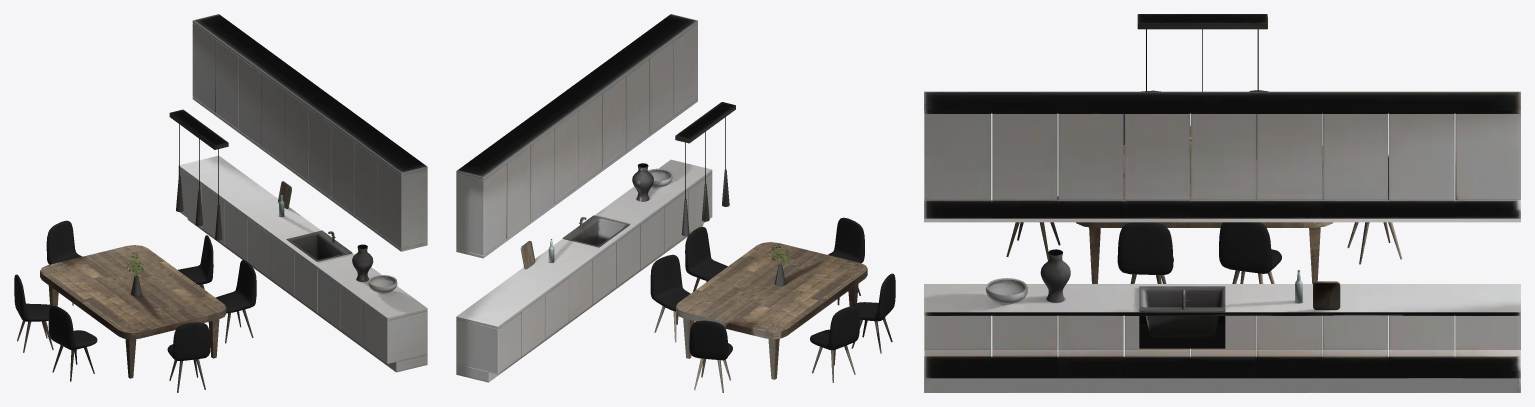
Rendered from kitchenProps.gltf.
The picture shows the model from 3 angles, left to right: view 1: azimuth 30°, elevation 25°; view 2: azimuth 150°, elevation 25°; view 3: azimuth 270°, elevation 25°; orthographic projection. The views are drawn at different scales.
Visible parts, largest first — view 1: kitchen, table, chairs, sink, lamp_socket, lamp, vase1, bowl; view 2: kitchen, table, chairs, sink, lamp_socket, lamp, vase1; view 3: kitchen, chairs, sink, table, lamp_socket, vase1, bowl, cuttingboard.
Part boxes in pixels (x1,y1,x2,y2): kitchen: (178, 14, 427, 372); table: (40, 245, 226, 378); chairs: (14, 220, 256, 392); sink: (286, 230, 352, 261); lamp_socket: (169, 109, 228, 149); lamp: (176, 175, 222, 240); vase1: (352, 244, 373, 281); bowl: (368, 275, 397, 293); kitchen: (456, 14, 712, 382); table: (676, 242, 867, 379); chairs: (650, 217, 895, 392); sink: (562, 215, 629, 247); lamp_socket: (675, 102, 735, 143); lamp: (681, 169, 729, 236); vase1: (632, 163, 653, 201); kitchen: (924, 91, 1520, 392); chairs: (1006, 90, 1402, 318); sink: (1139, 286, 1225, 348); table: (1076, 145, 1333, 283); lamp_socket: (1137, 14, 1267, 29); vase1: (1040, 249, 1070, 302); bowl: (985, 278, 1027, 304); cuttingboard: (1313, 281, 1340, 309).
Size of the model in its own units: 4.7 by 3.01 by 5.75.
